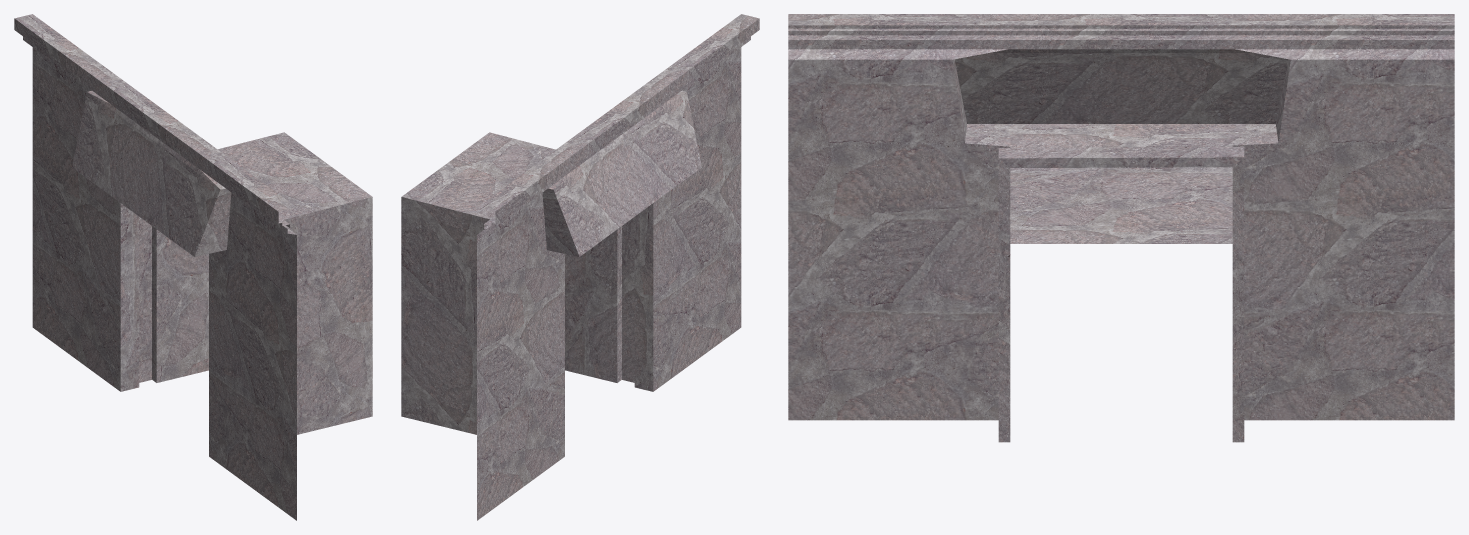
File: mdl_apa_wall_front_lower.gltf
3 renders of one model, left to right at view 1: azimuth 30°, elevation 25°; view 2: azimuth 150°, elevation 25°; view 3: azimuth 270°, elevation 25°, orthographic. The views are drawn at different scales.
Parts seen in each view (by area): view 1: mdl_apa_wall_front_lower; view 2: mdl_apa_wall_front_lower; view 3: mdl_apa_wall_front_lower.
Boxes of the visible parts, x1=… form: mdl_apa_wall_front_lower: x1=14, y1=14, x2=372, y2=520; mdl_apa_wall_front_lower: x1=401, y1=14, x2=759, y2=520; mdl_apa_wall_front_lower: x1=788, y1=14, x2=1454, y2=442.
Bounding box in the file's own units: 4.13 × 6.34 × 9.69.
Materials: 1 (1 with a texture image).
